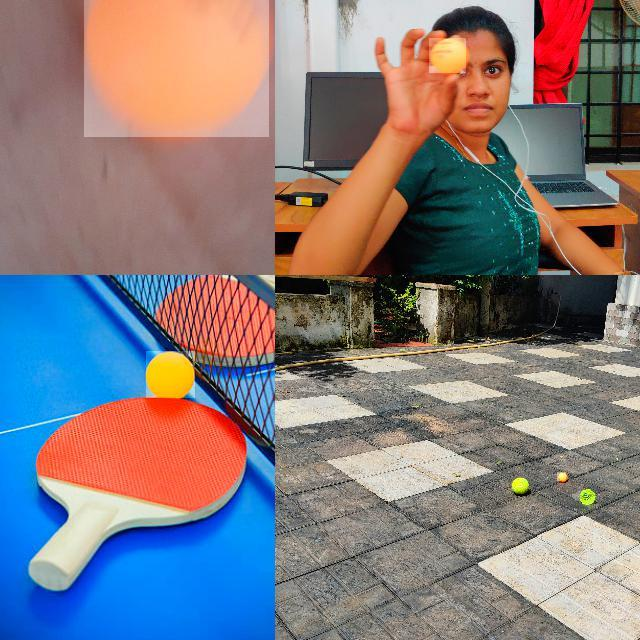ping-pong-ball: (84, 0, 270, 139), (146, 351, 196, 399), (429, 38, 467, 74), (557, 472, 567, 482)
